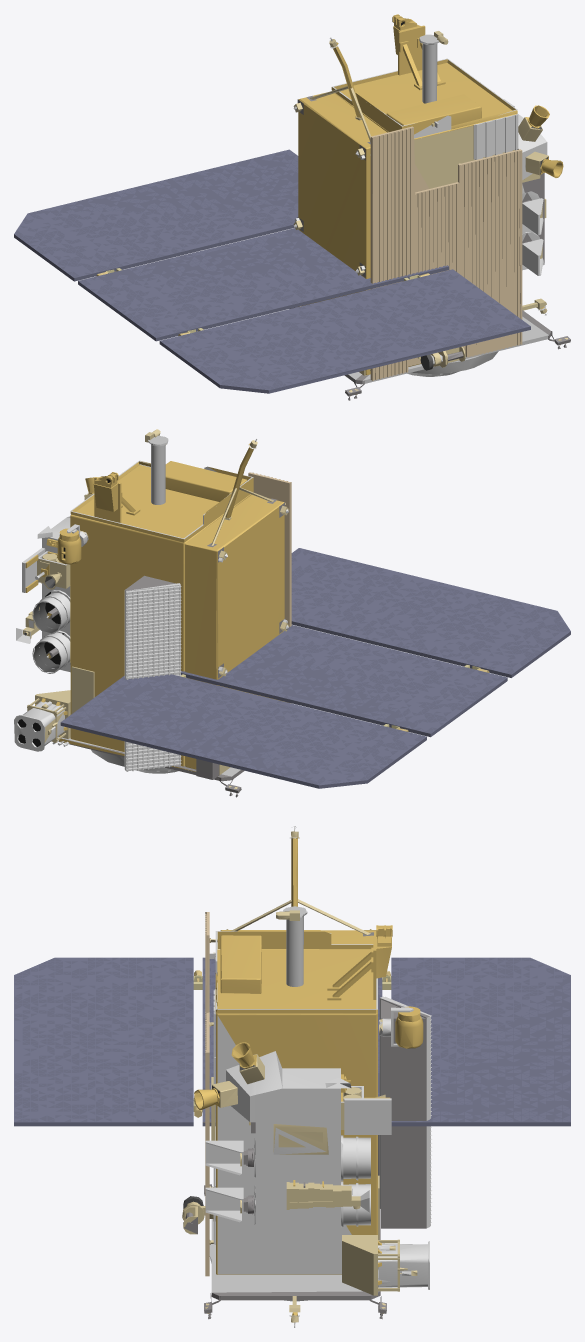
File: lro.glb
The picture shows the model from 3 angles, top to bottom: view 1: azimuth 30°, elevation 25°; view 2: azimuth 150°, elevation 25°; view 3: azimuth 270°, elevation 25°; orthographic projection. The views are drawn at different scales.
Visible parts, largest first — view 1: solar-panel, body, foil; view 2: solar-panel, foil, body; view 3: solar-panel, body, foil.
Part boxes in pixels (x1,y1,x2,y2): solar-panel: (14, 149, 530, 393); body: (290, 21, 570, 400); foil: (298, 14, 563, 375); solar-panel: (60, 548, 570, 788); foil: (25, 443, 284, 771); body: (14, 429, 291, 797); solar-panel: (14, 957, 570, 1126); body: (182, 826, 431, 1327); foil: (194, 837, 423, 1315).
Size of the model in its own units: 33.28 by 26.28 by 32.26.
